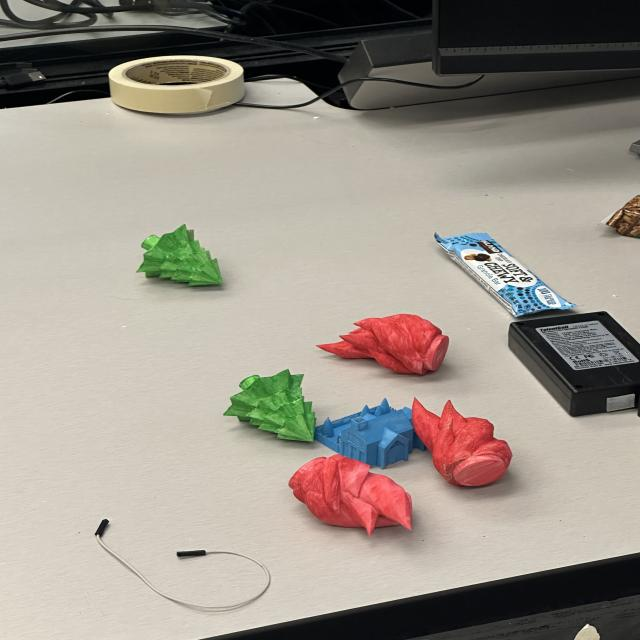fire: (286, 452, 415, 537), (406, 396, 516, 490), (313, 313, 454, 376)
house: (313, 396, 427, 469)
tree: (224, 366, 322, 451), (134, 221, 225, 289)
